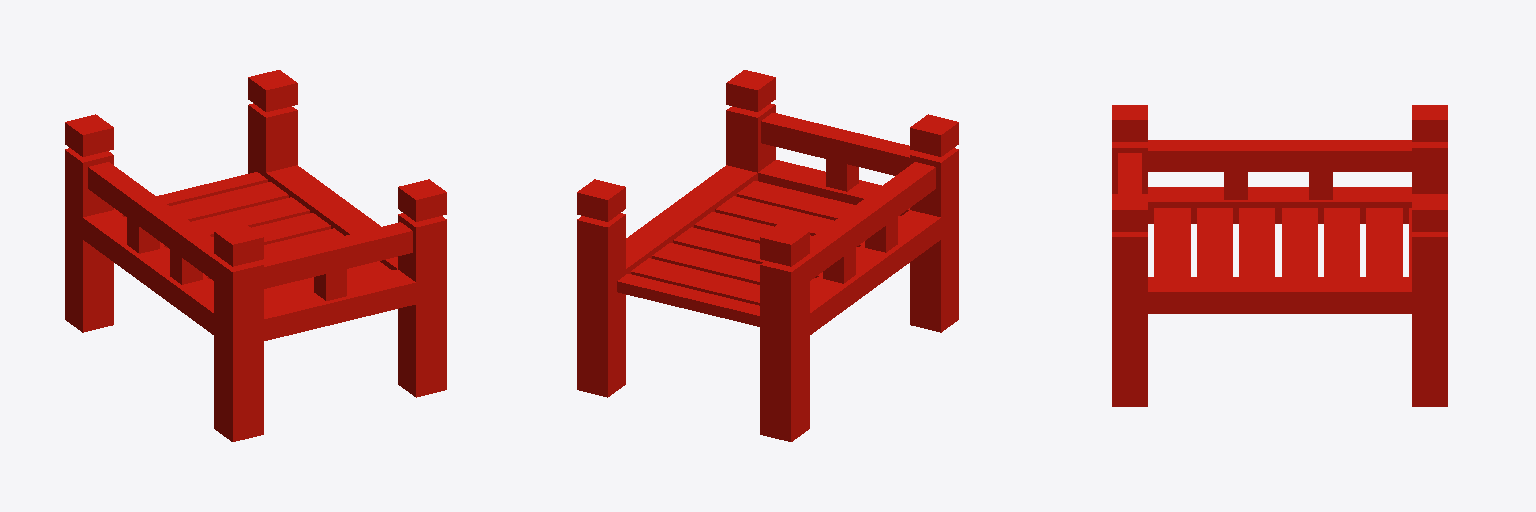
3 renders of one model, left to right at view 1: azimuth 30°, elevation 25°; view 2: azimuth 150°, elevation 25°; view 3: azimuth 270°, elevation 25°, orthographic.
Parts seen in each view (by area): view 1: cube; view 2: cube; view 3: cube.
Part boxes in pixels (left/top/right/bottom): cube: left=65, top=70, right=446, bottom=441; cube: left=577, top=70, right=958, bottom=441; cube: left=1112, top=105, right=1447, bottom=406.
Bounding box in the file's own units: 0.6406 × 0.5625 × 0.8672.
1 materials, 1 textured.